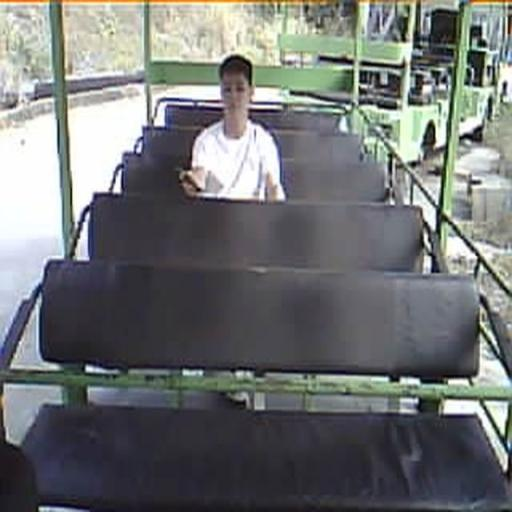persona: (179, 52, 287, 203)
